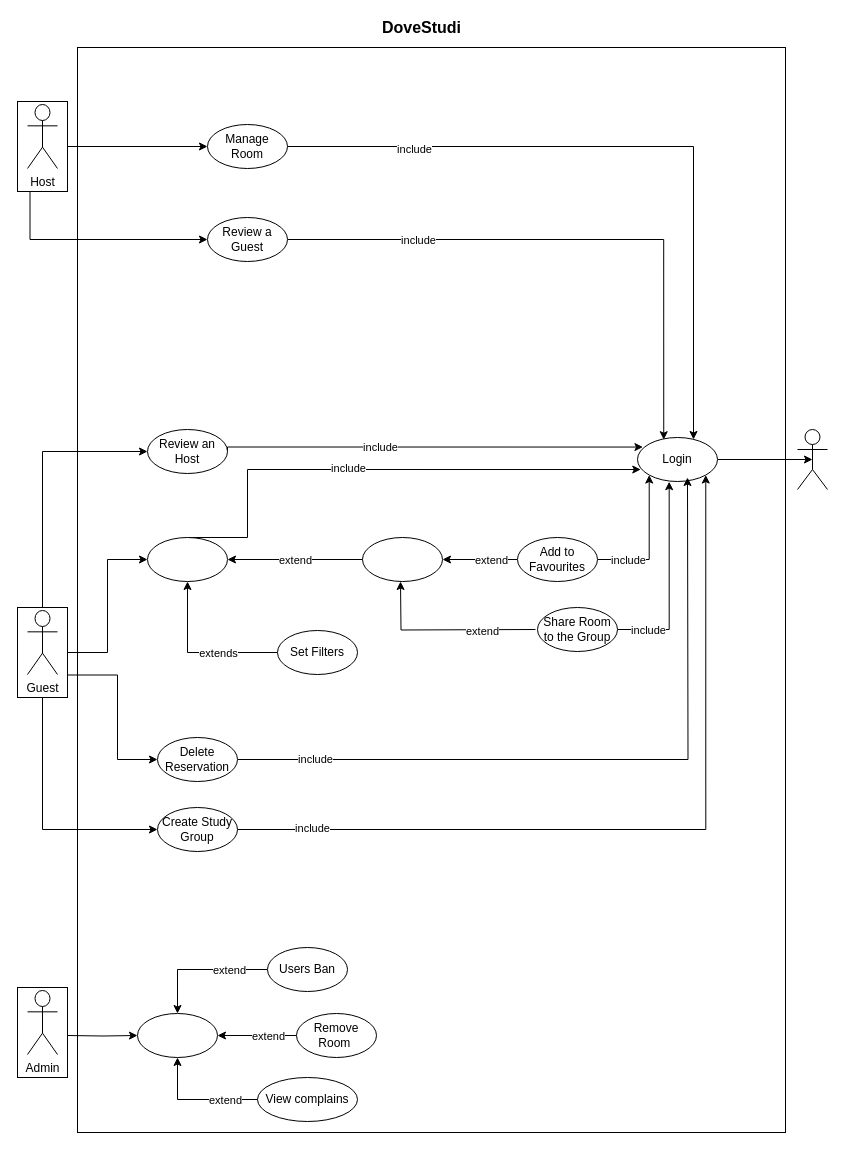
Image size: 851x1150. Some labels were removed from this diagram. Each missing label, with the centre of its shape:
Book Room: the point at 187,559
Google Account: the point at 812,459
SuperLogin: the point at 177,1035
View Details: the point at 402,559
